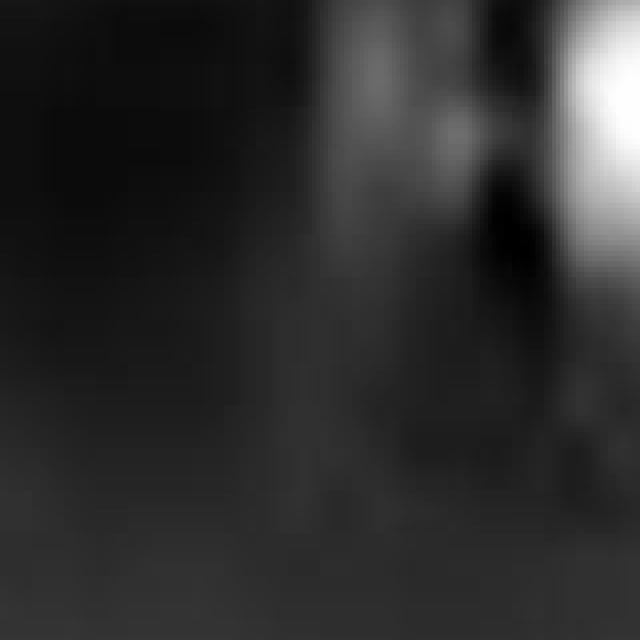person: (529, 1, 640, 390)
